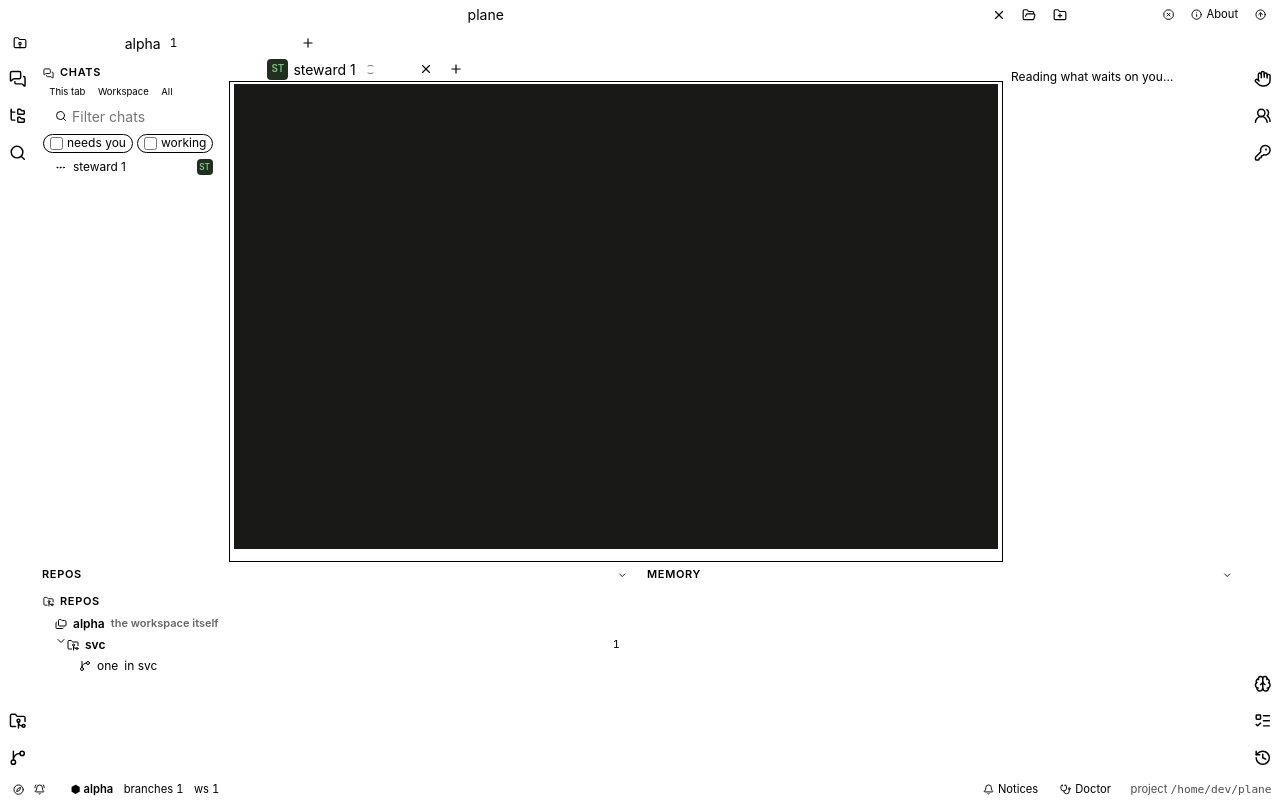
Test: a file or folder row's actions (FM-10) › adds a file to an open chat's context from its row, through the chat picker (#1151)
Click the tab named "Explorer" at (18, 116), box [0,98,35,133]
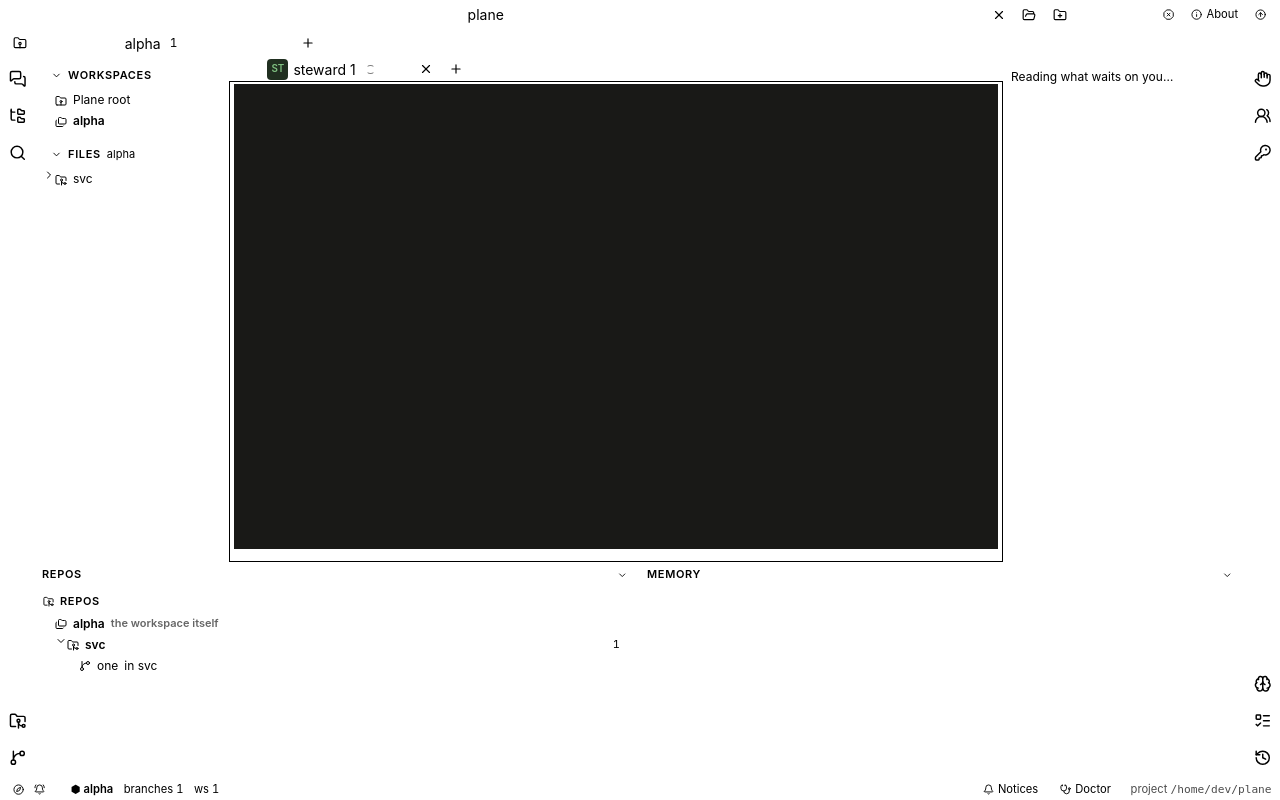
Click the list item "one in svc" at (85, 666), box [43,656,632,676]
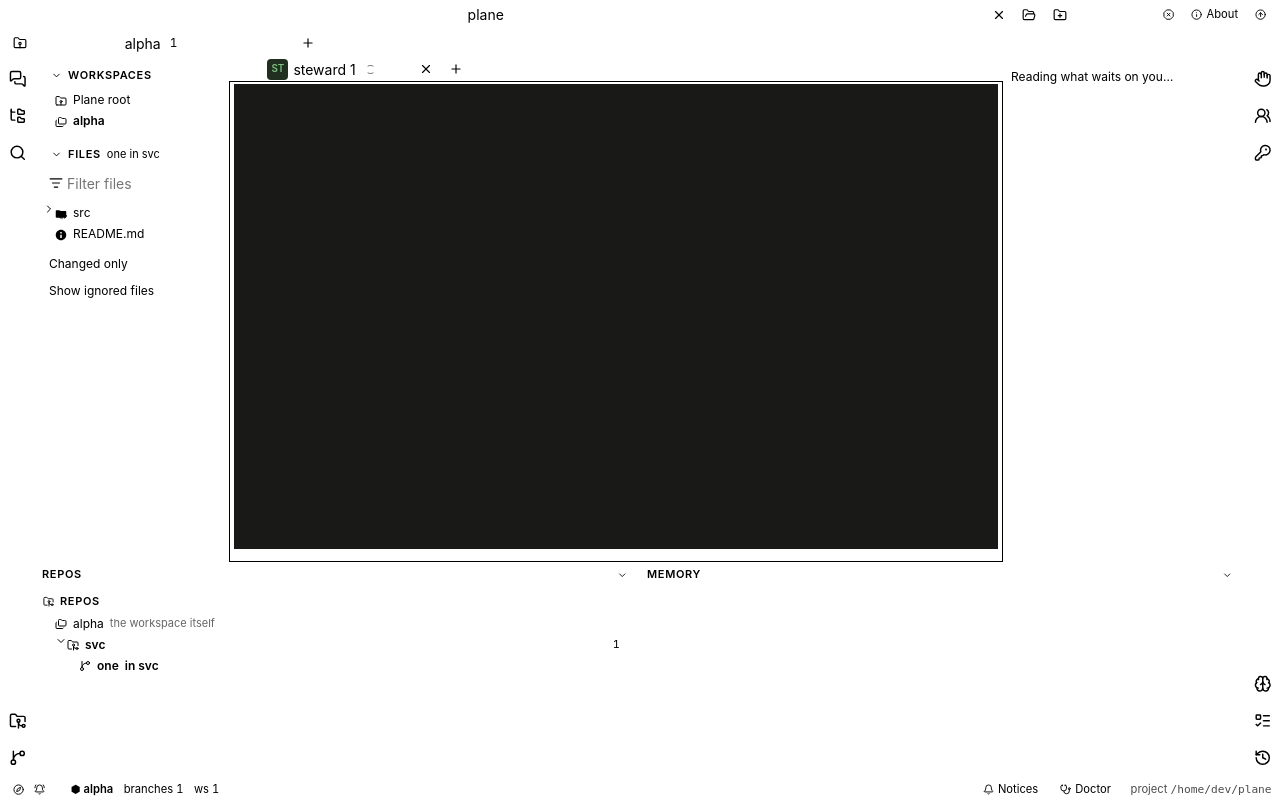
Right-click the list item "README.md" at (132, 235), box [43,224,221,245]
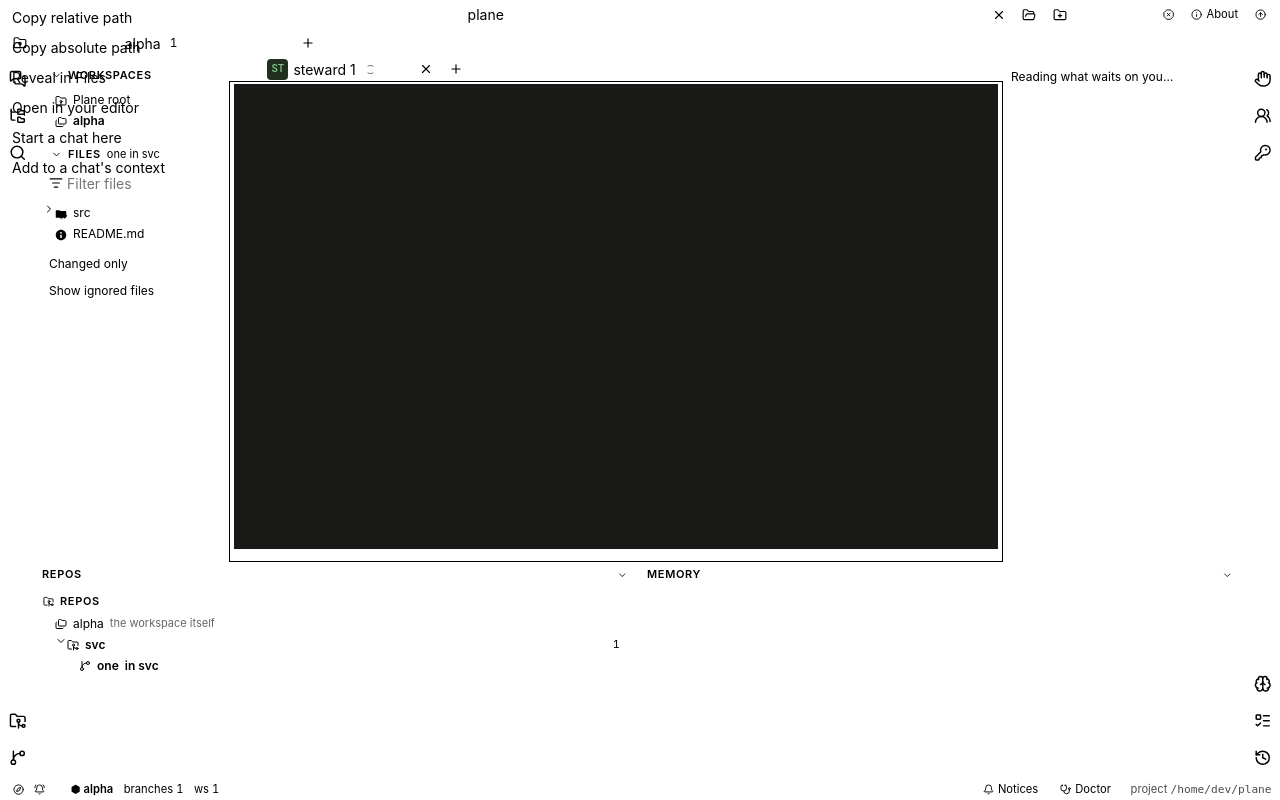
Click the menu item "Add to a chat's context" at (88, 168), box [12,159,165,176]
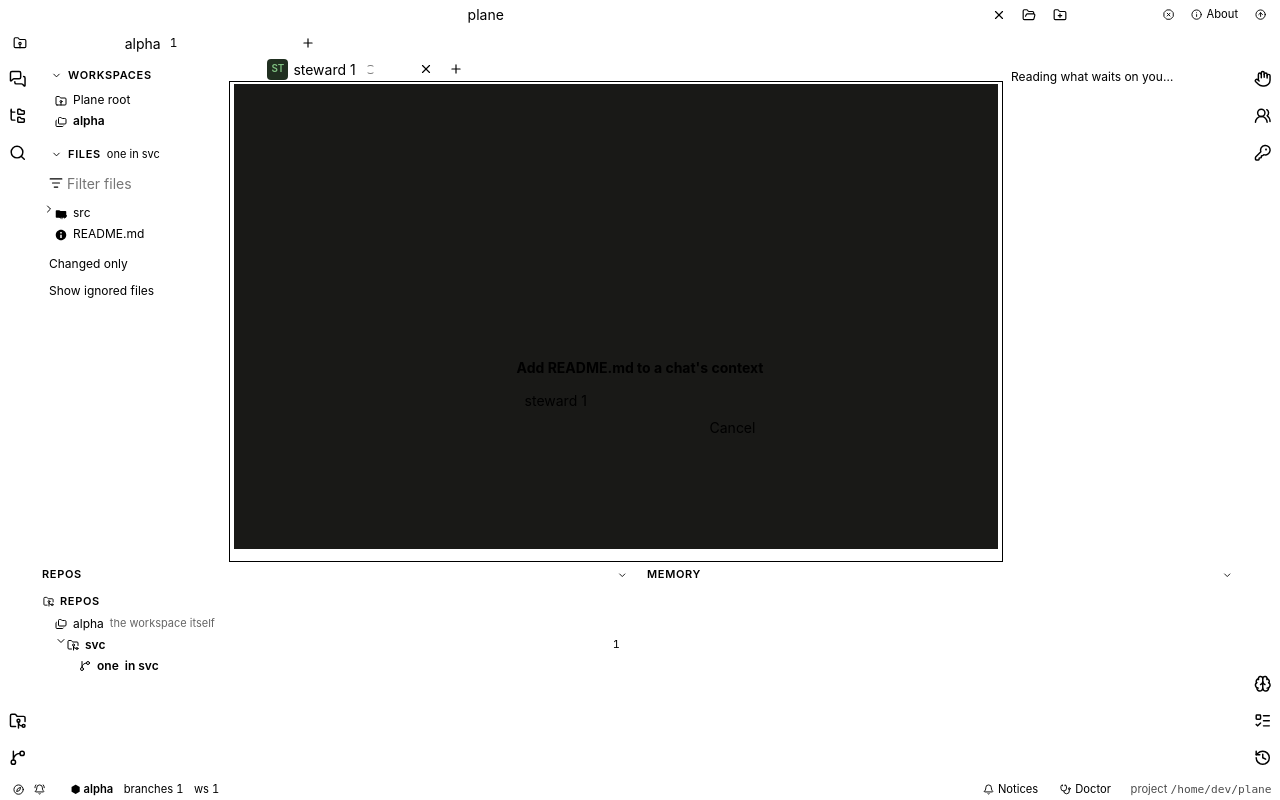
Click the menu item "steward 1" at (556, 401), box [517,388,595,414]
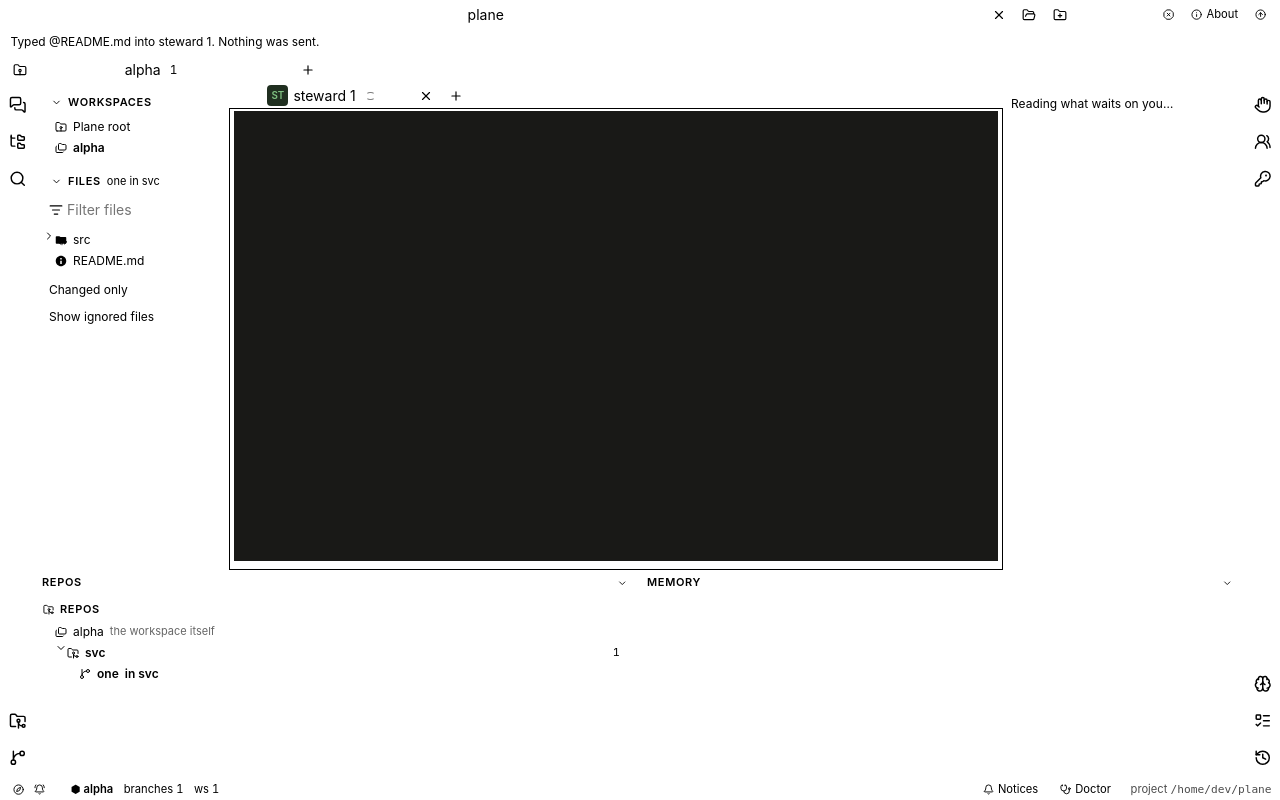
Check: the text "Typed @README.md into steward 1. Nothing was sent." is shown, box [10,34,319,49]
Check: the dialog is gone
